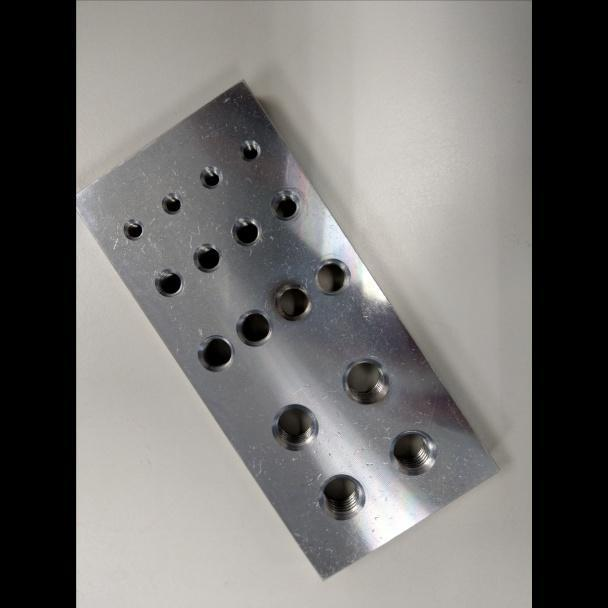hole: (269, 401, 318, 452), (387, 428, 438, 476), (317, 472, 366, 521), (340, 357, 389, 405), (234, 307, 274, 347), (273, 281, 312, 322), (195, 334, 235, 373), (312, 258, 351, 296), (230, 214, 262, 247), (269, 189, 300, 221), (191, 242, 222, 274), (152, 267, 184, 298), (197, 164, 223, 190), (237, 139, 261, 163), (160, 191, 183, 216), (121, 216, 144, 241)
